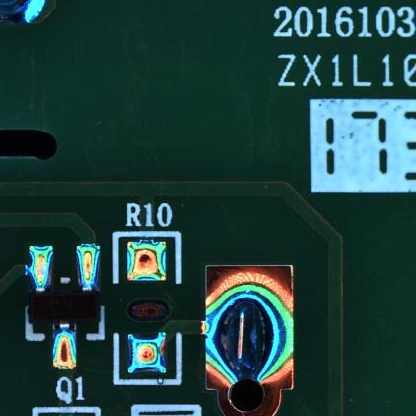spot: (202, 278, 296, 382)
